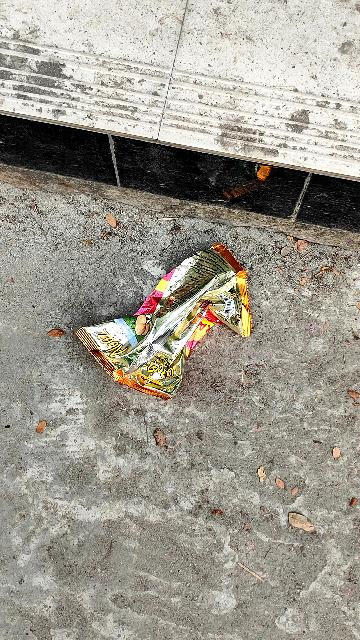packet: (75, 254, 271, 398)
